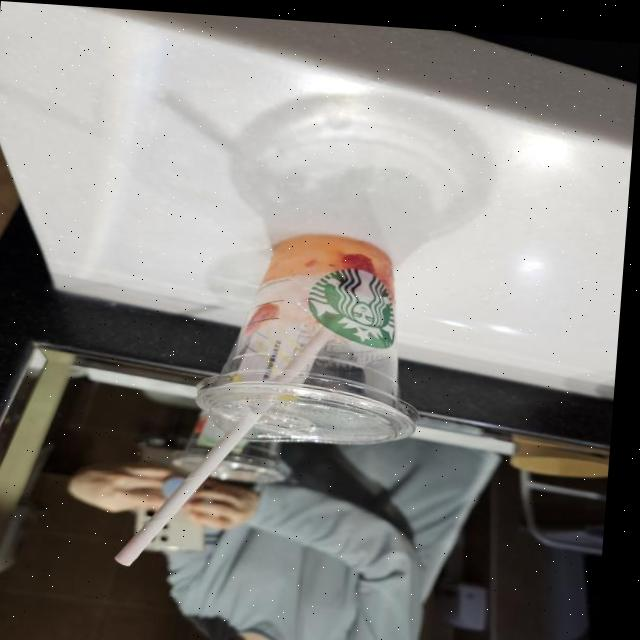cup: (193, 220, 440, 454)
